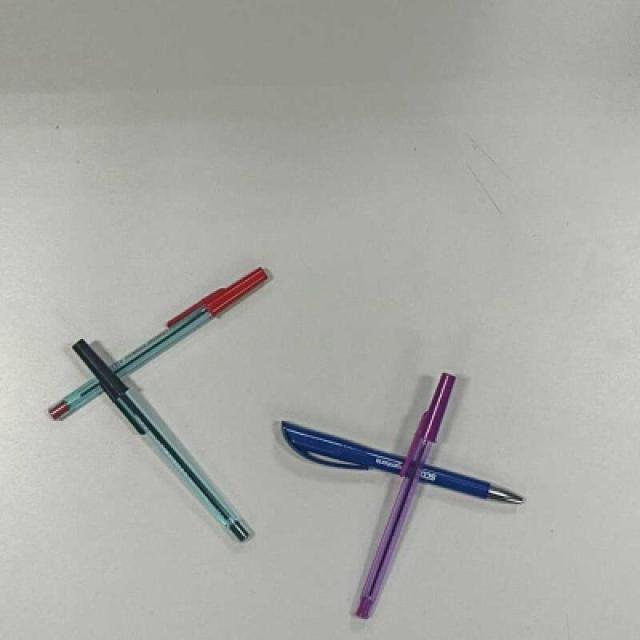caneta: (68, 336, 251, 550), (45, 262, 272, 426), (349, 371, 458, 620), (274, 422, 525, 522)
